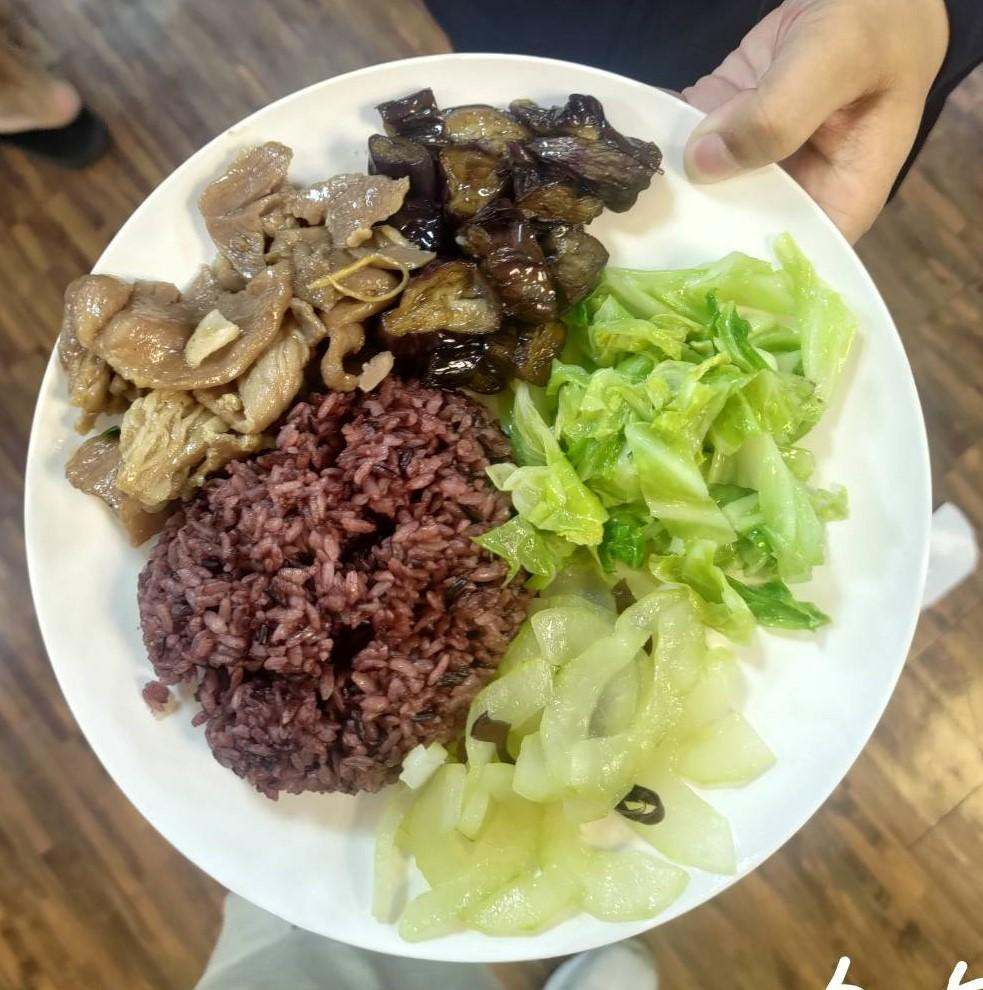big fried chicken leg: (24, 38, 947, 968)
braised fish: (133, 380, 524, 801)
braised fish fillet: (368, 592, 766, 952), (509, 240, 864, 638), (386, 80, 656, 378)
braised pork: (59, 140, 404, 530)
